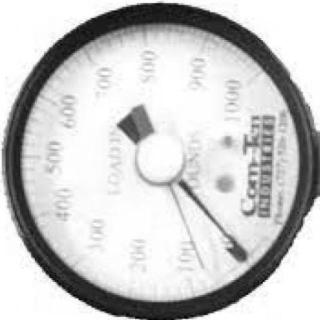gauge: (0, 0, 320, 320), (132, 132, 187, 187), (216, 229, 270, 271), (233, 60, 277, 100), (224, 234, 244, 252), (194, 256, 210, 274)
